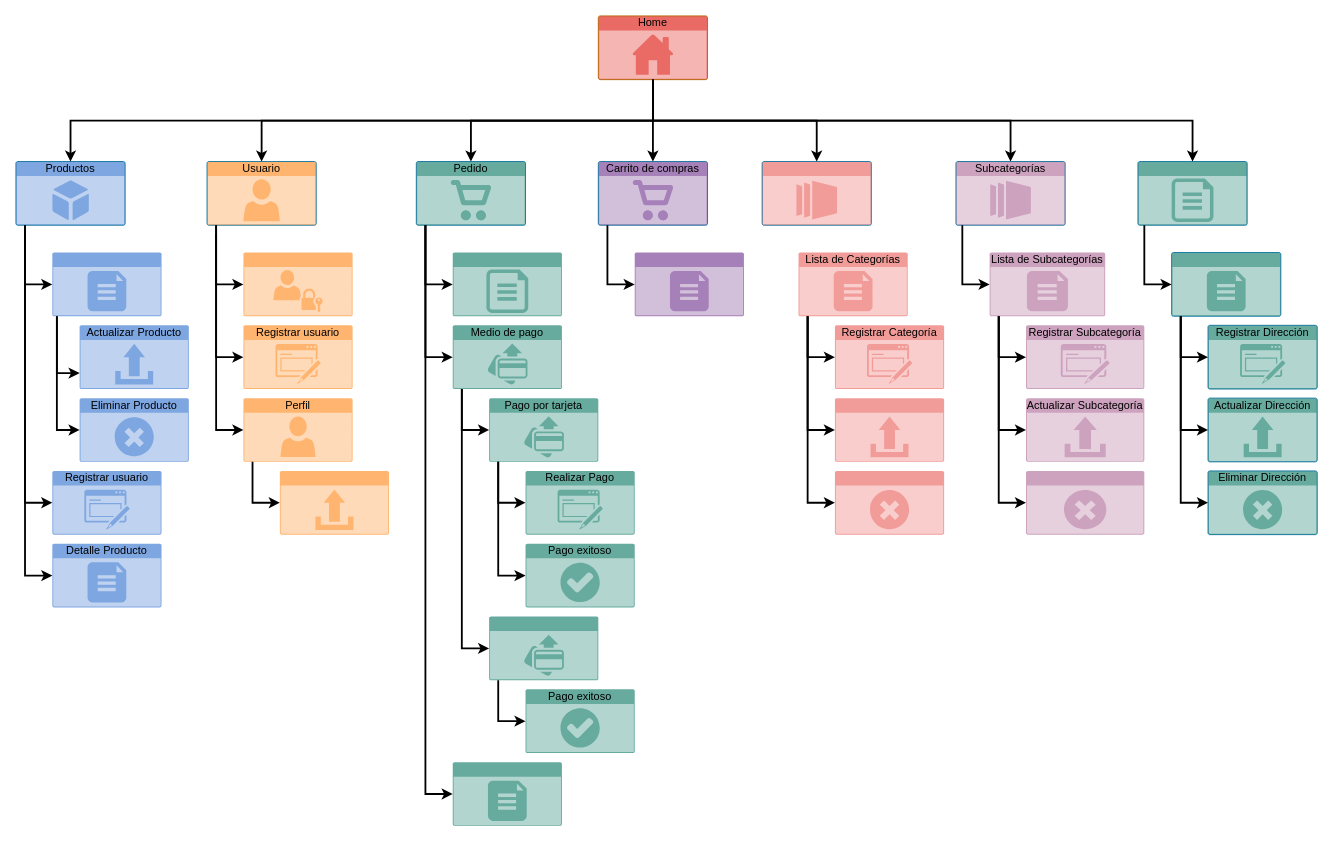
The diagram is 1333 pixels wide and 842 high, and some of its shapes have lost their labels. The centre of each missing label's shape, as x and y in pixels:
"Actualizar Categoría" belongs at (x=889, y=429).
"Actualizar Perfil" belongs at (x=334, y=502).
"Agregar dirección" belongs at (x=506, y=284).
"Categorías" belongs at (x=816, y=193).
"Detalle carrito" belongs at (x=688, y=284).
"Dirección" belongs at (x=1192, y=193).
"Eliminar Categoría" belongs at (x=889, y=502).
"Eliminar Subcategoría" belongs at (x=1085, y=502).
"Historial de Pedidos" belongs at (x=506, y=793).
"Inicio de sesión" belongs at (x=297, y=284).
"Lista de Direcciones" belongs at (x=1226, y=284).
"Lista de Productos" belongs at (x=106, y=284).
"Pago contraentrega" belongs at (x=543, y=648).
